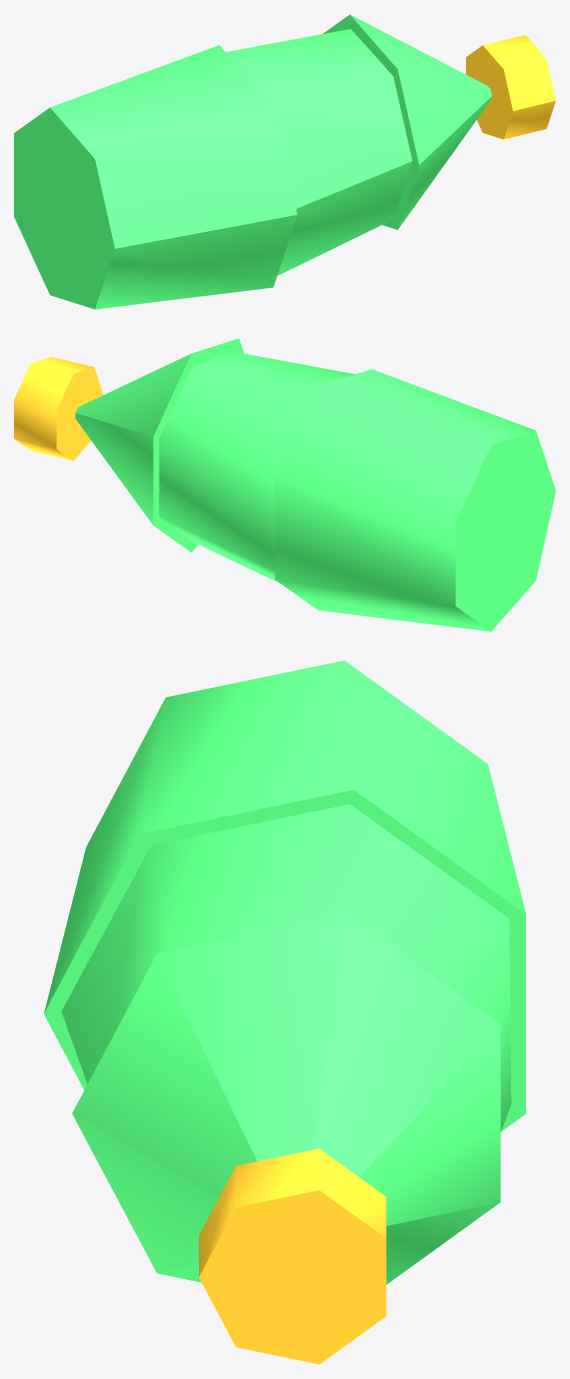
The model's file is trash-bottle-1.glb.
3 renders of one model, top to bottom at view 1: azimuth 30°, elevation 25°; view 2: azimuth 150°, elevation 25°; view 3: azimuth 270°, elevation 25°, orthographic. The views are drawn at different scales.
Parts seen in each view (by area): view 1: trash-bottle-1; view 2: trash-bottle-1; view 3: trash-bottle-1.
Part boxes in pixels (bbox=[...]): trash-bottle-1: bbox=[14, 14, 555, 309]; trash-bottle-1: bbox=[14, 338, 555, 631]; trash-bottle-1: bbox=[44, 660, 525, 1364].
Bounding box in the file's own units: 0.765 × 0.3515 × 0.3422.
